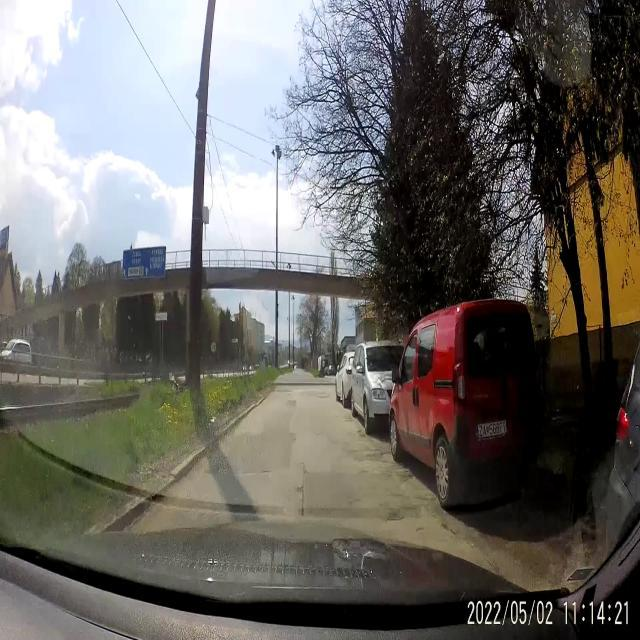Pothole: (383, 498, 422, 526), (436, 516, 459, 542), (379, 448, 392, 464), (260, 465, 272, 478), (316, 391, 330, 401), (356, 429, 366, 442), (344, 414, 353, 424)
